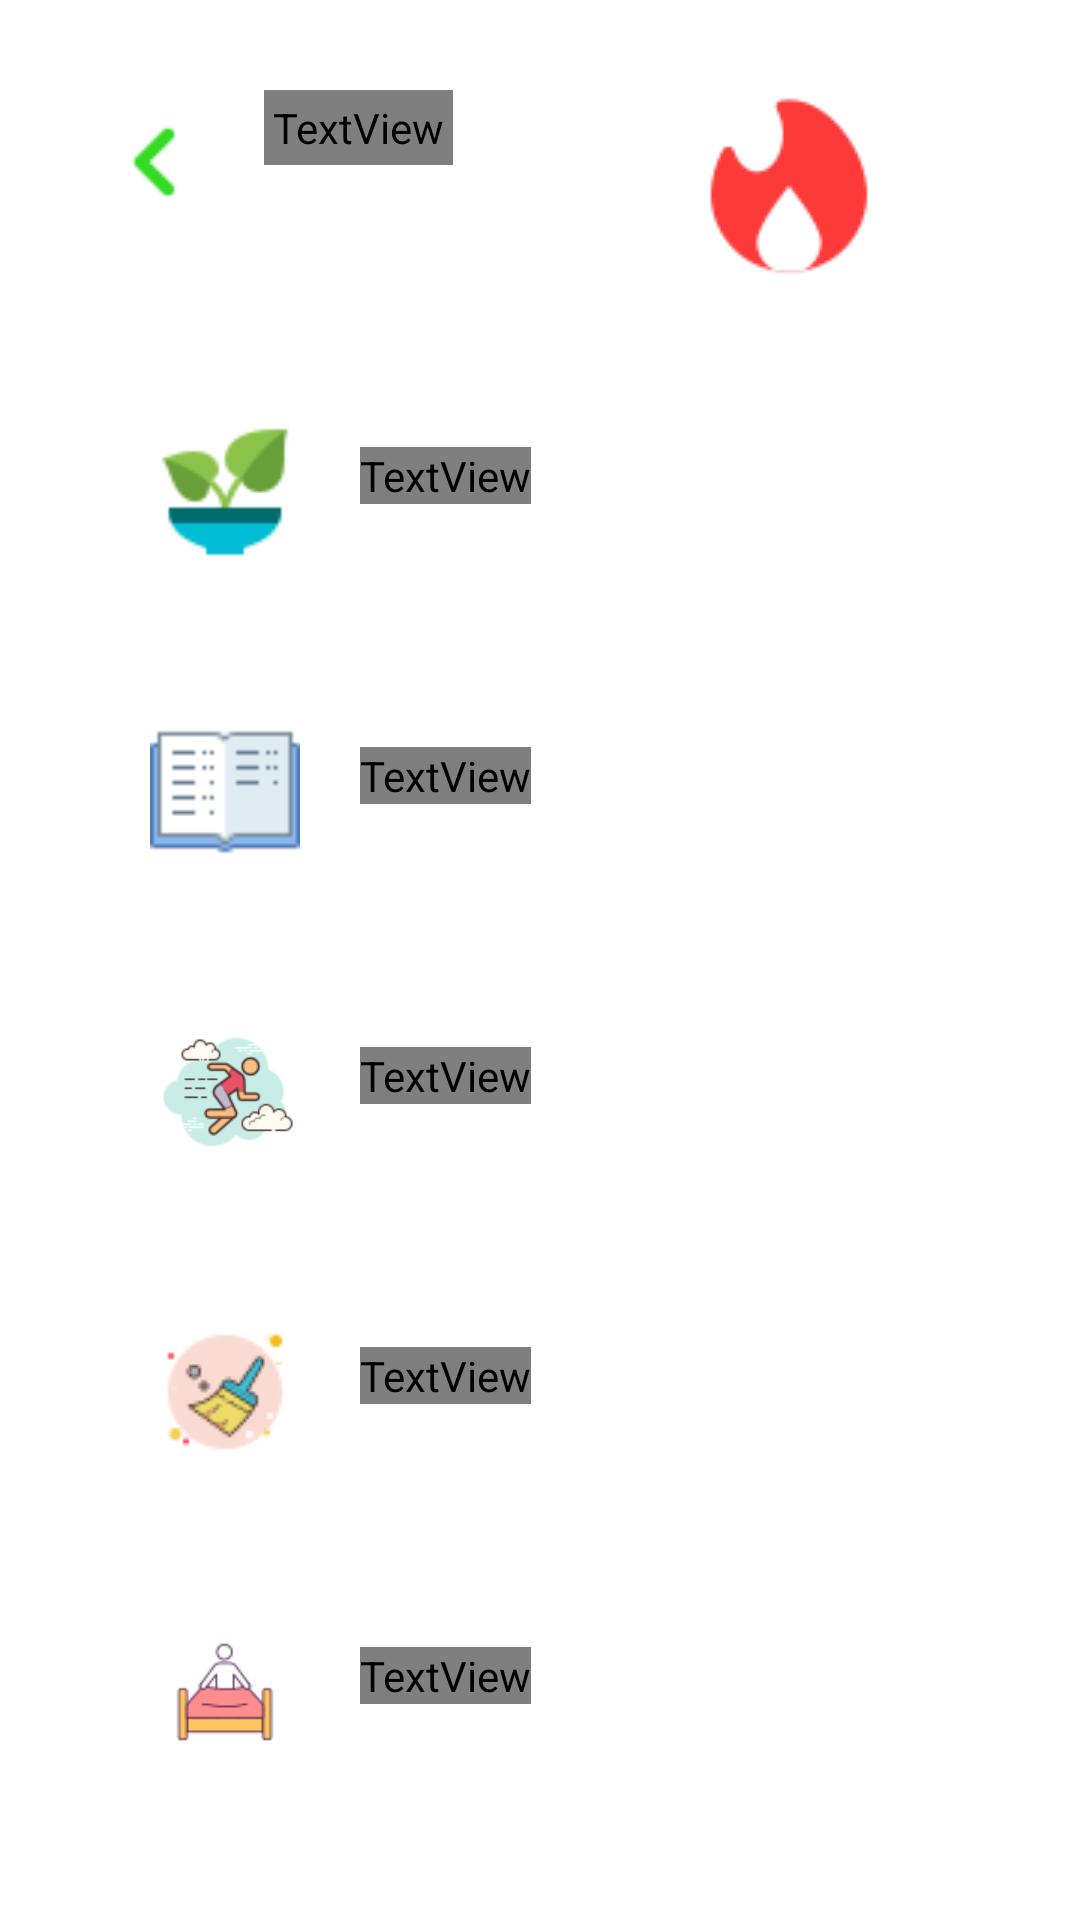

Point at icon controls on the screen. Image size 1080 x 1920, points as point (x, y).
back: point (153, 162)
